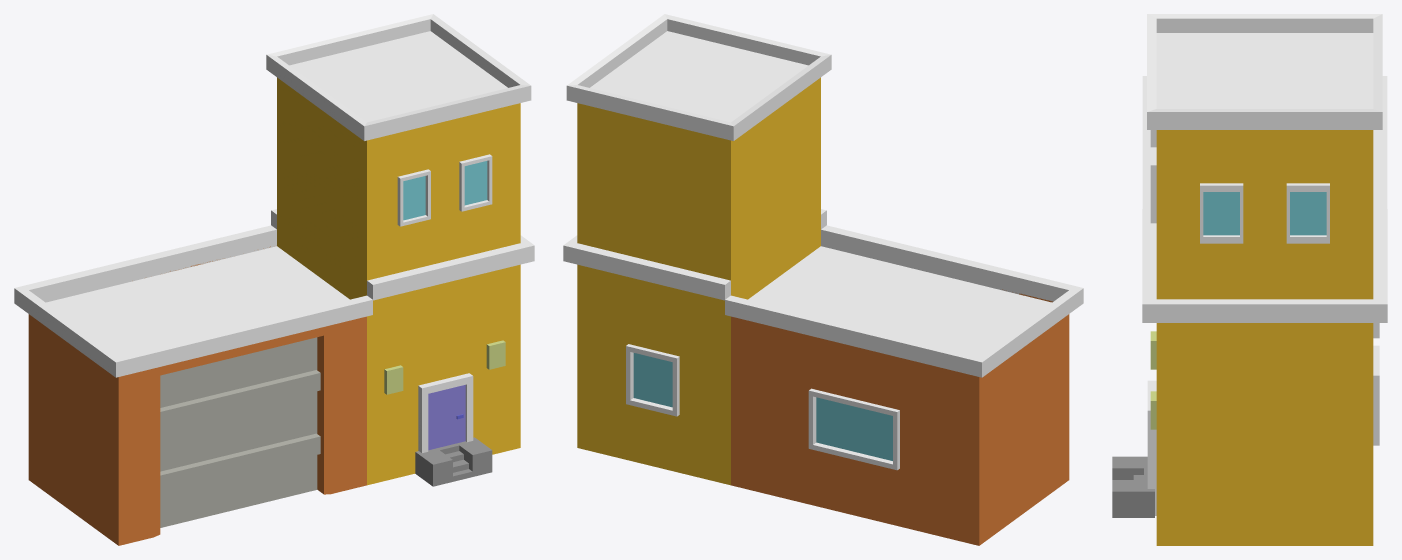
The model's file is building_yellow.fbx.
The picture shows the model from 3 angles, left to right: view 1: azimuth 30°, elevation 25°; view 2: azimuth 150°, elevation 25°; view 3: azimuth 270°, elevation 25°; orthographic projection. The views are drawn at different scales.
Parts seen in each view (by area): view 1: white, house, car_door, white_door, stair, door, glass, house_light; view 2: house, white, car_door, glass; view 3: house, white, glass, stair, house_light.
Part boxes in pixels (x1=…): white: x1=14, y1=14, x2=534, y2=452; house: x1=277, y1=77, x2=520, y2=485; car_door: x1=28, y1=246, x2=366, y2=545; white_door: x1=160, y1=337, x2=320, y2=527; stair: x1=415, y1=437, x2=492, y2=486; door: x1=428, y1=385, x2=465, y2=450; glass: x1=403, y1=161, x2=487, y2=220; house_light: x1=384, y1=340, x2=505, y2=394; house: x1=577, y1=77, x2=820, y2=485; white: x1=563, y1=14, x2=1083, y2=470; car_door: x1=731, y1=289, x2=1069, y2=545; glass: x1=633, y1=353, x2=892, y2=460; house: x1=1156, y1=130, x2=1373, y2=545; white: x1=1142, y1=14, x2=1387, y2=515; glass: x1=1203, y1=192, x2=1326, y2=235; stair: x1=1112, y1=456, x2=1154, y2=517; house_light: x1=1150, y1=331, x2=1156, y2=429.
Size of the model in its own units: 725 by 601 by 342.
